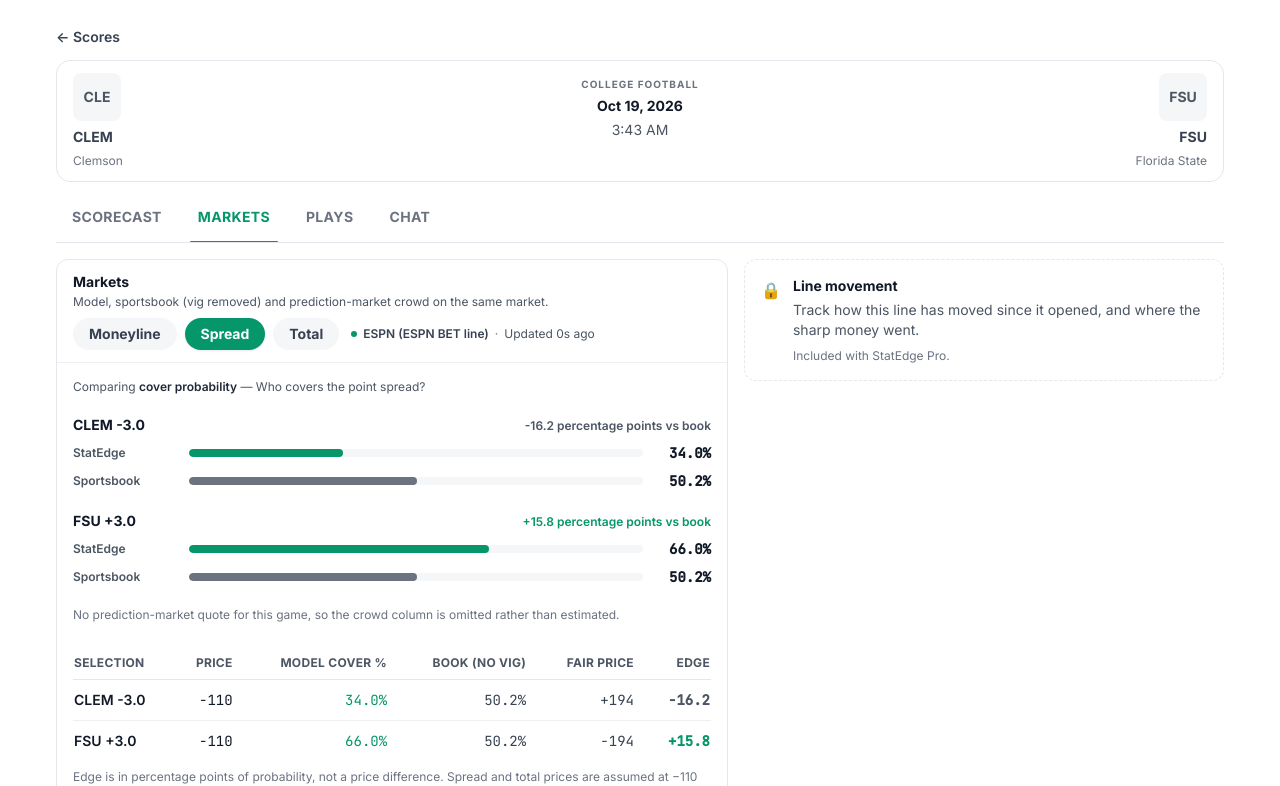
Game Center — market navigation › switching markets swaps the probability being compared
Expected: the text "cover probability" is shown, [139,379,237,394]
Click the tab "Moneyline" at point(125, 334), box [73,318,176,350]
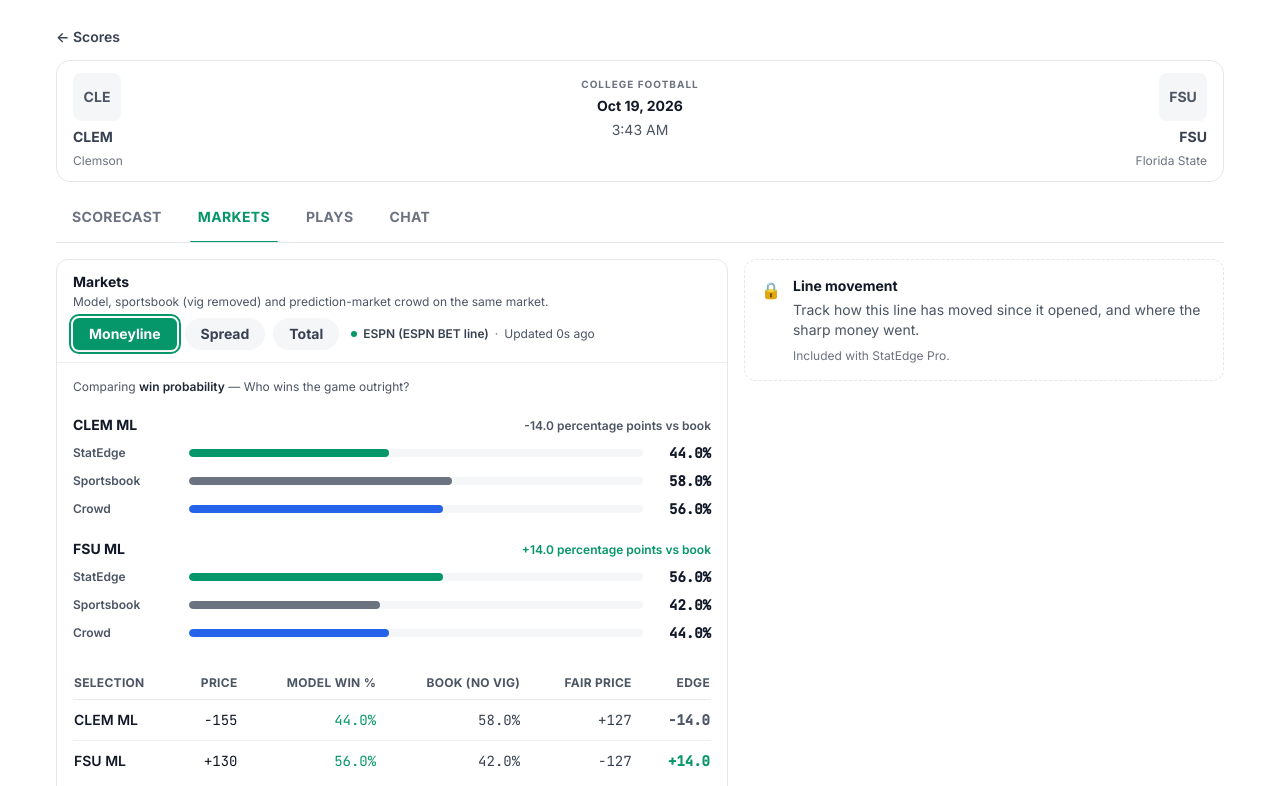
Expected: the text "win probability" is shown, [139,379,225,394]
Expected: the text "cover probability" is gone
